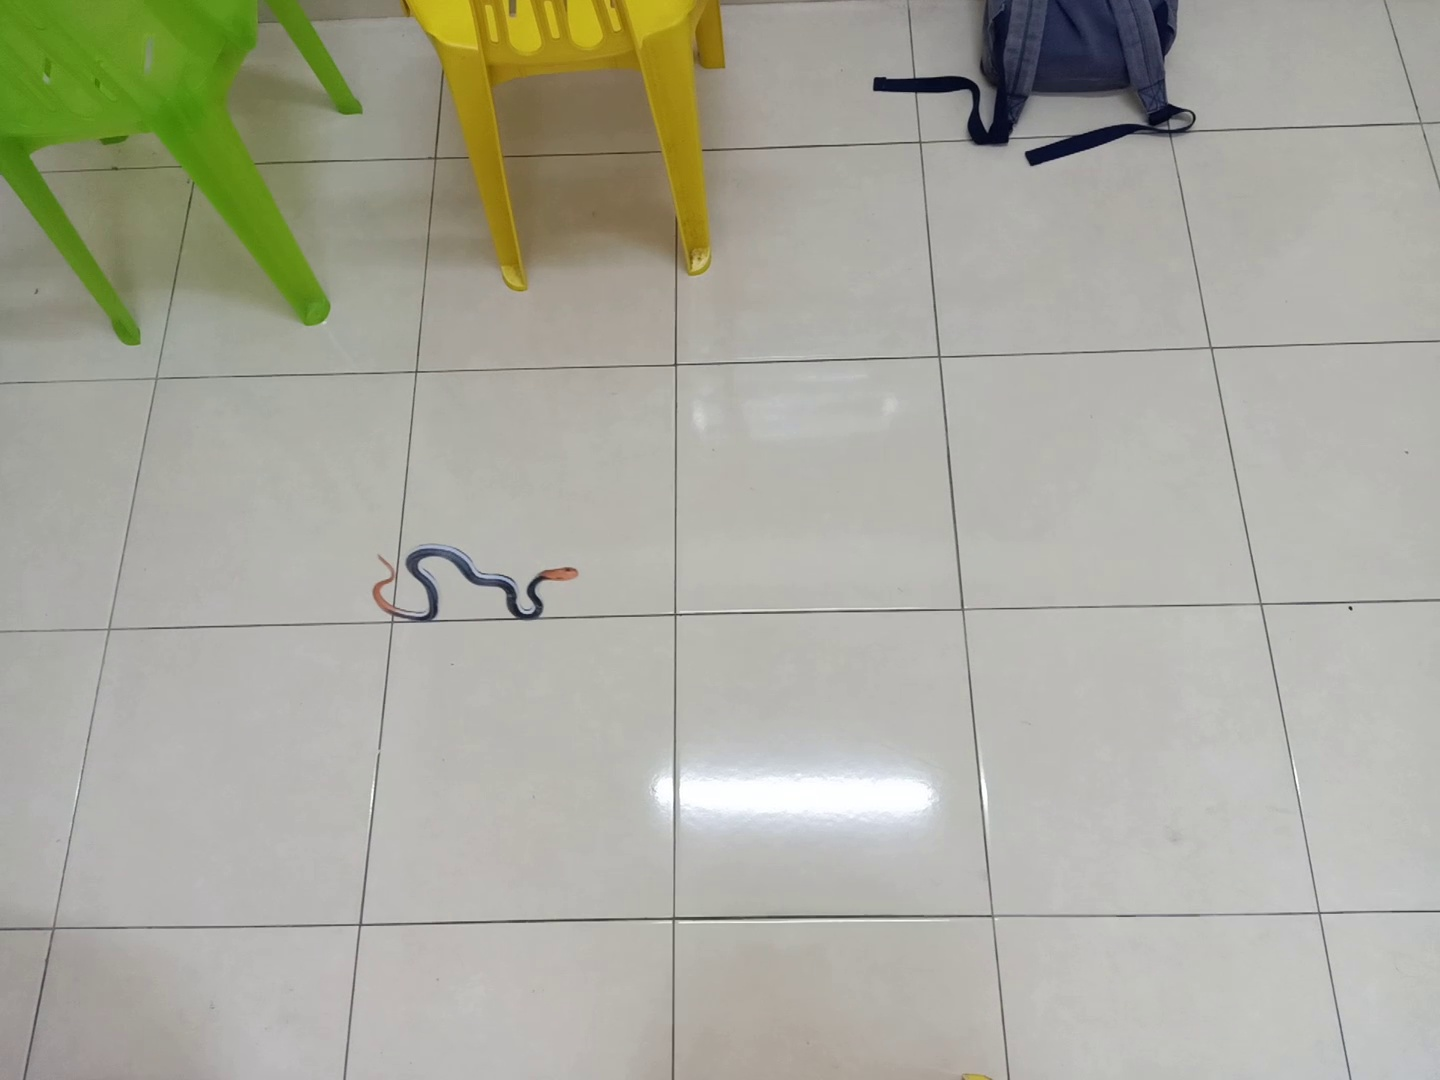snake: (366, 535, 590, 630)
